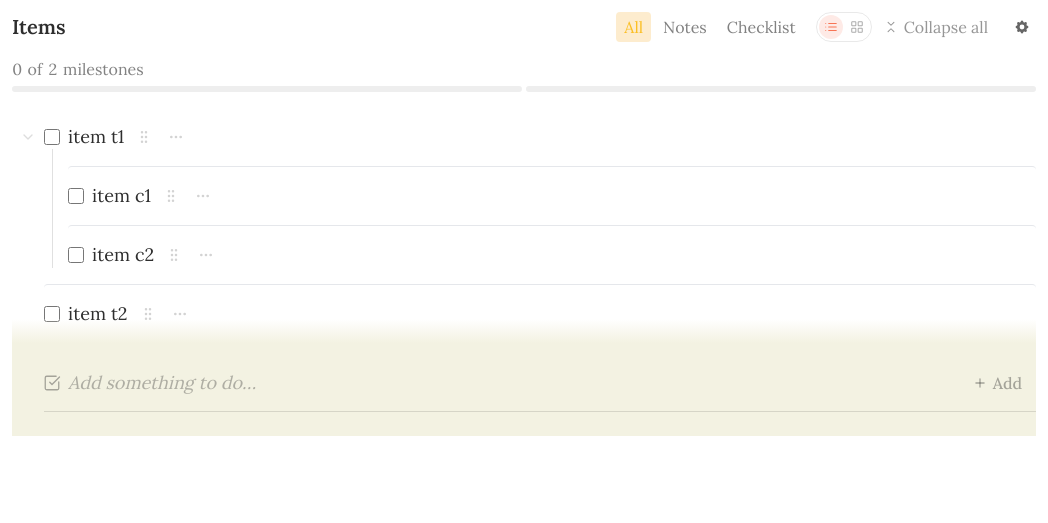
Todo duplicate from a list row (FS-F6AEE R14–R18) › should put a duplicated step directly after it, inside the same family
Check: the text "item t1" is shown, box [68, 124, 124, 150]
Click the button named "Actions for item c1": (203, 196) [191, 184, 215, 208]
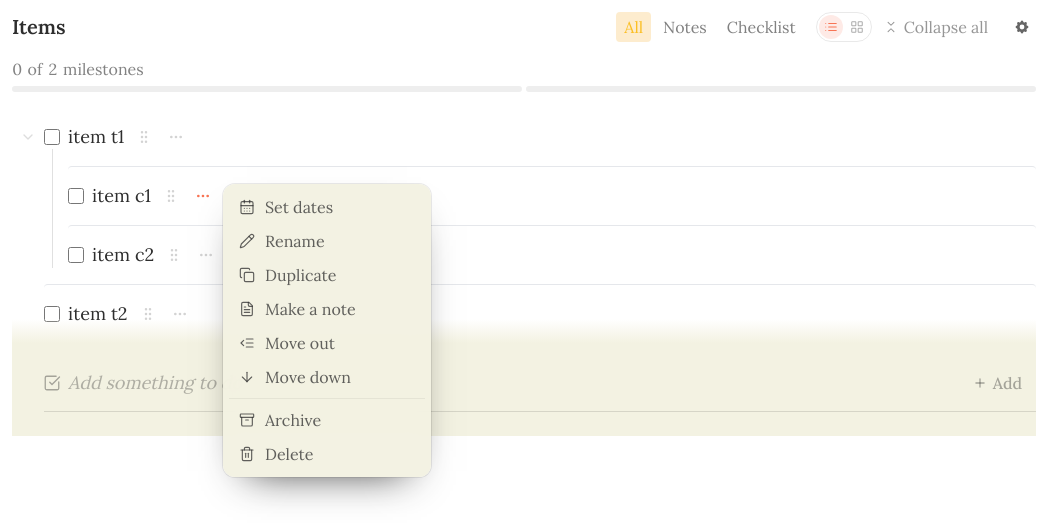
Click the menu item "Duplicate": (327, 275) [229, 258, 425, 292]
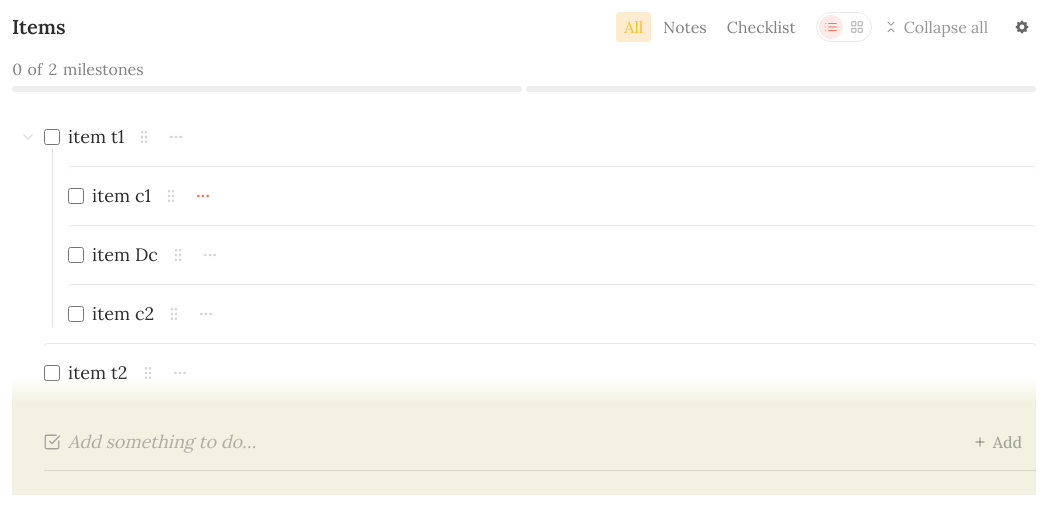
Check: the text "item Dc" is shown, box [92, 242, 158, 268]
